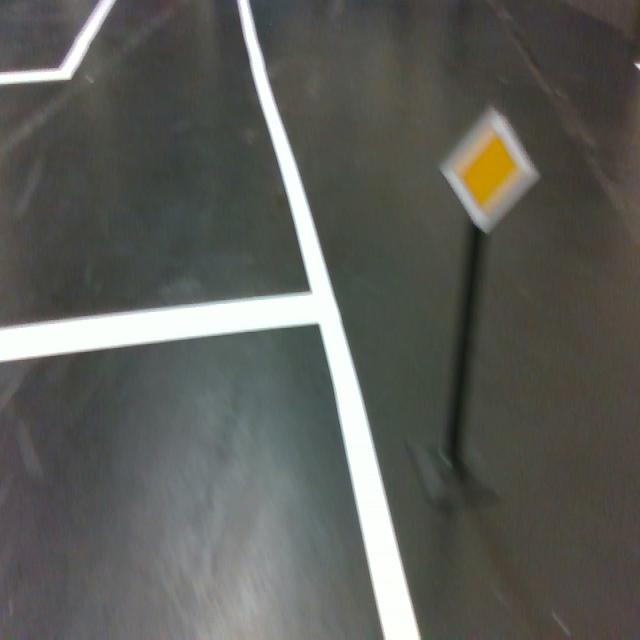priority-sign: (437, 104, 541, 235)
